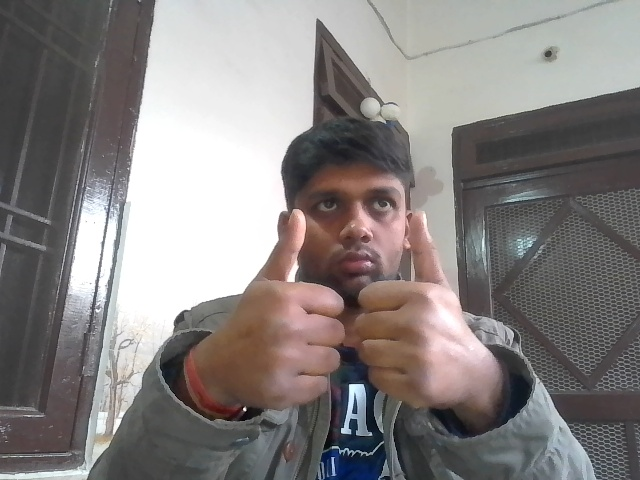Excellent: (220, 203, 466, 405)
